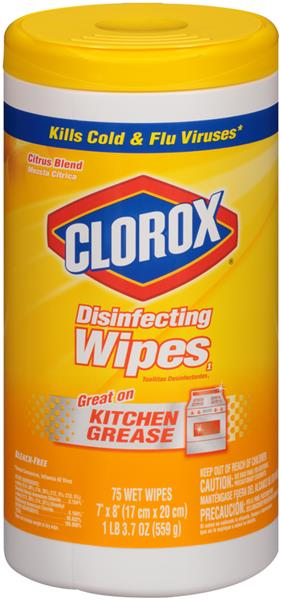Wipes: (1, 1, 279, 600)
